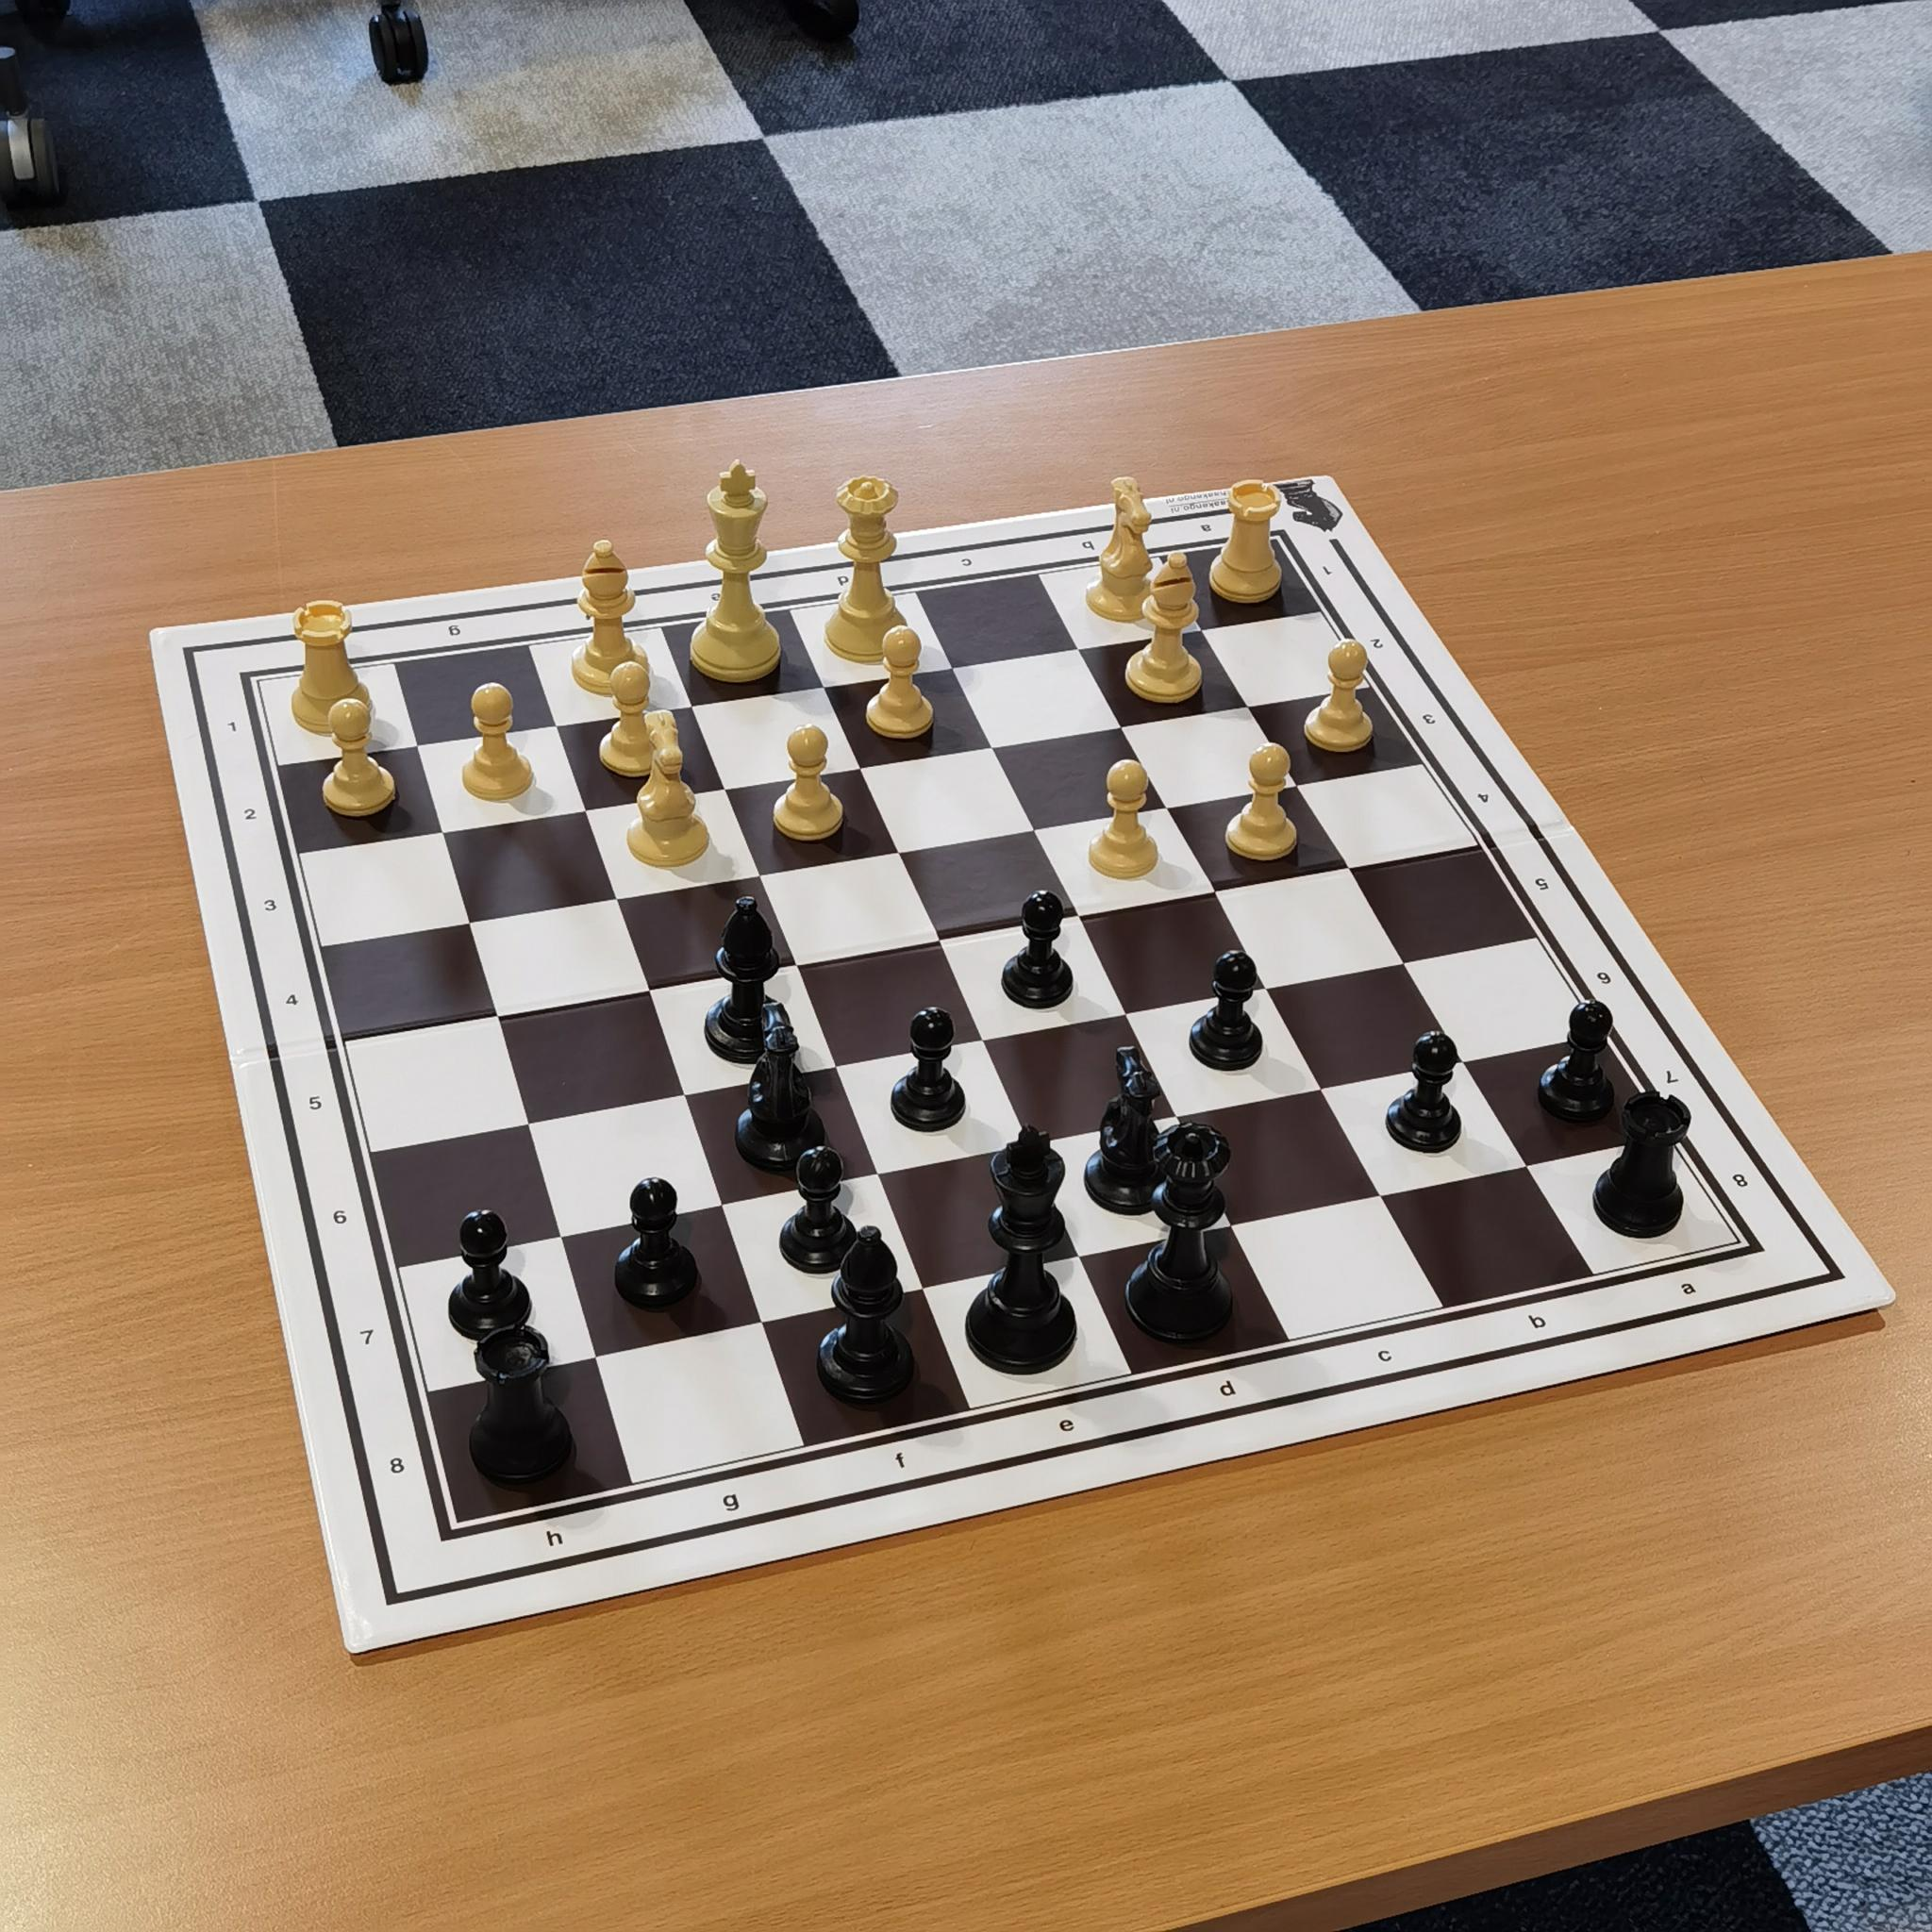corners: (1720, 1231, 1780, 1281), (419, 1506, 471, 1560), (228, 660, 278, 702), (1261, 517, 1299, 559)
eight: (1718, 1148, 1762, 1205), (382, 1438, 426, 1495)
one: (214, 704, 249, 755), (1318, 547, 1353, 591)
